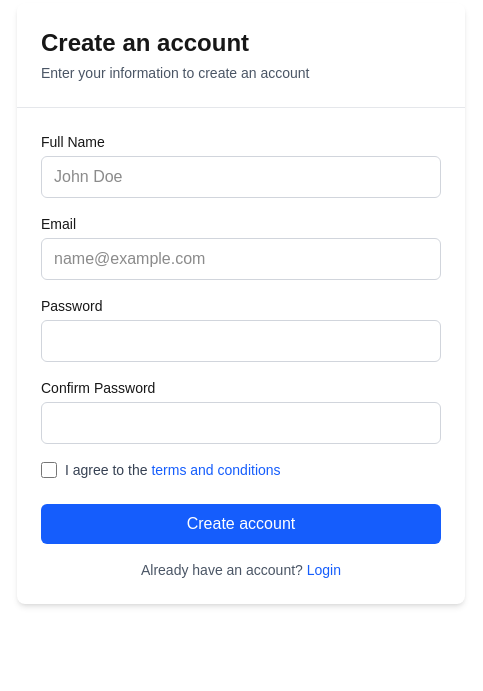
Scenario: SignupPage › validates passwords match
Step 1. Type "Test User" into the field labelled "Full Name" → (241, 177), box [41,156,441,198]
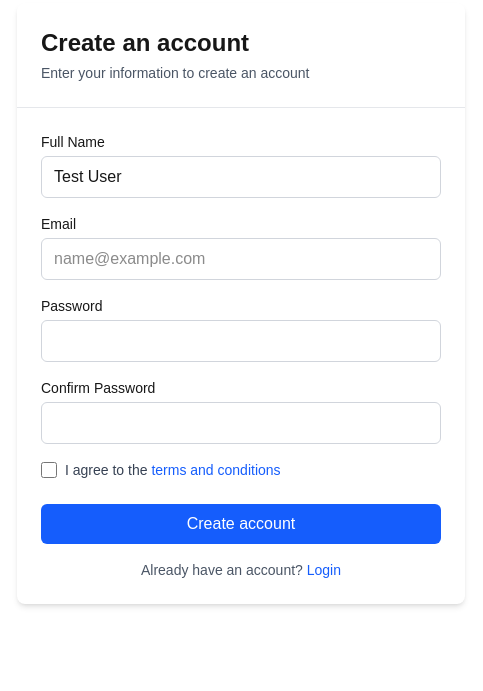
Step 2. Type "test@example.com" into the field labelled "Email" → (241, 259), box [41,238,441,280]
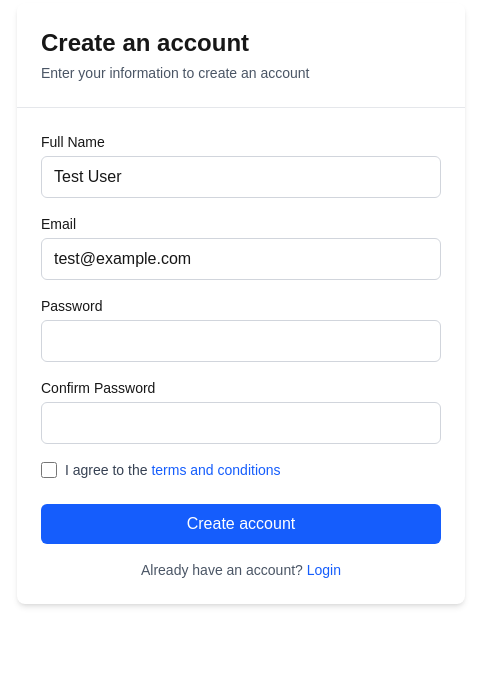
Step 3. Type "password123" into the password field labelled "Password" → (241, 341), box [41,320,441,362]
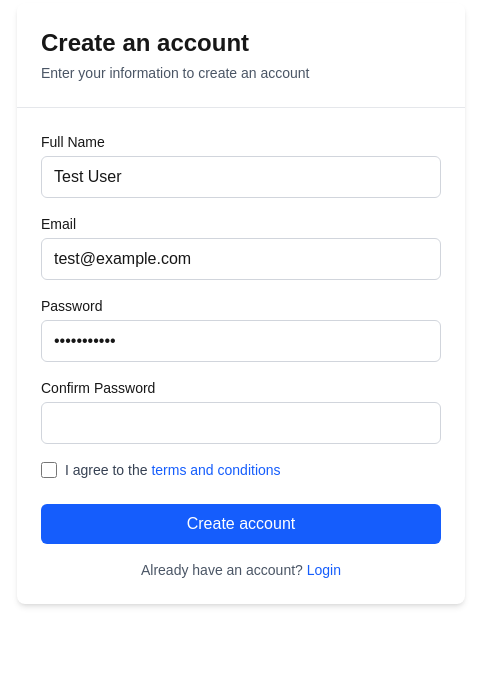
Step 4. Type "password456" into the password field labelled "Confirm Password" → (241, 423), box [41,402,441,444]
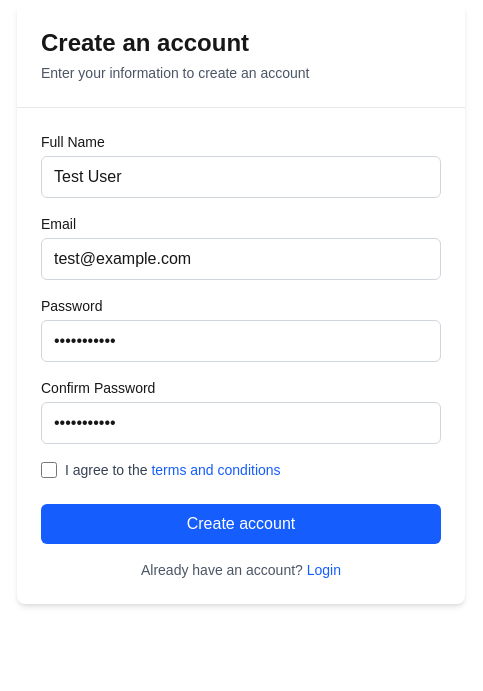
Step 5. Click the checkbox labelled "I agree to the terms and conditions" → (49, 470), box [41,462,57,478]
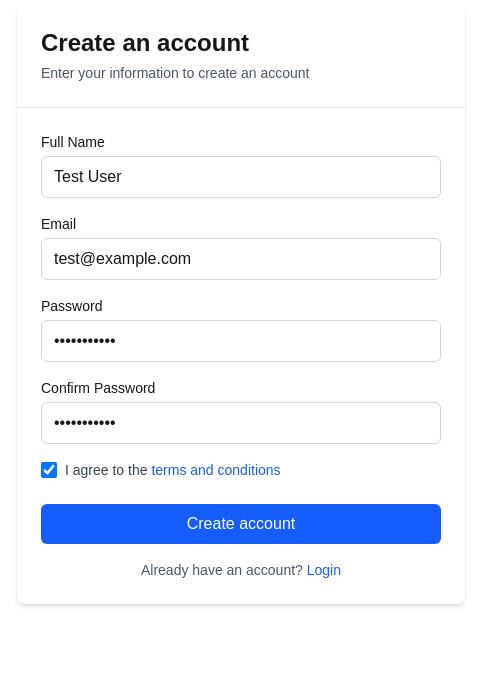
Step 6. Click the button "Create account" → (241, 524), box [41,504,441,544]
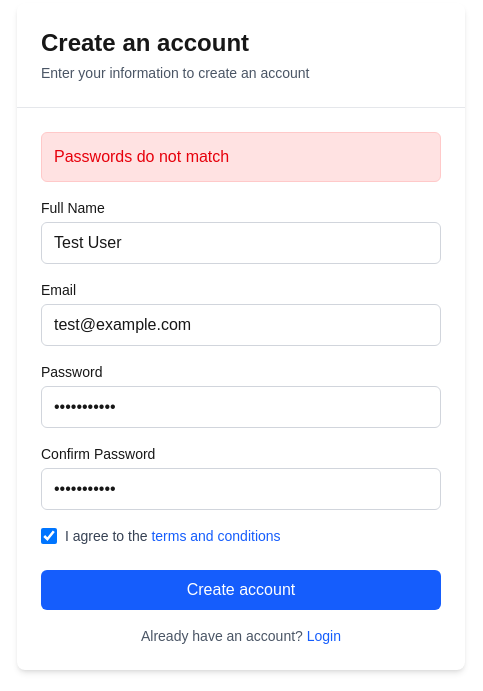
Check: the text "Passwords do not match" is shown, box [41,132,441,182]
